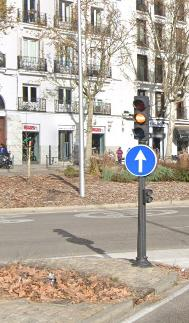yellow_light: (132, 95, 149, 139)
